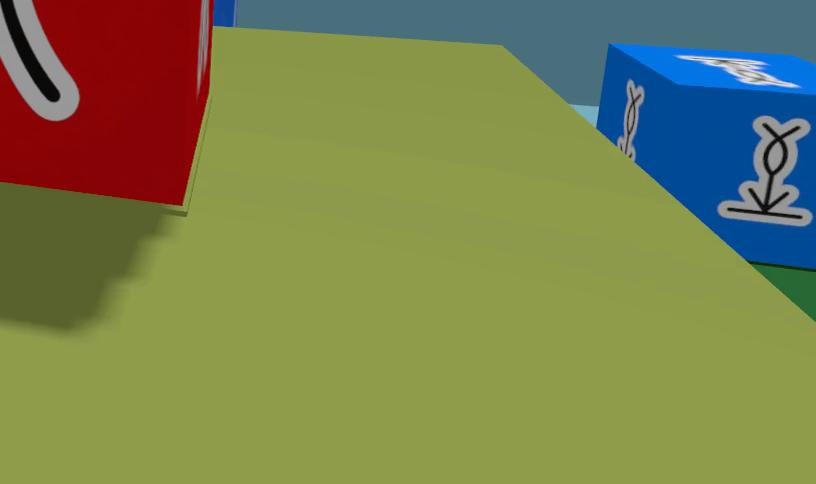KFS_FAKE: (0, 0, 215, 204), (0, 0, 77, 120), (197, 0, 212, 84)
KFS_REAL: (594, 45, 815, 269), (719, 116, 811, 224), (704, 56, 789, 87), (616, 80, 644, 159), (215, 0, 238, 27), (787, 81, 798, 87), (685, 55, 693, 60), (696, 56, 701, 63), (676, 55, 683, 58), (691, 60, 696, 62), (701, 63, 704, 64), (683, 58, 685, 59), (789, 81, 790, 81)
